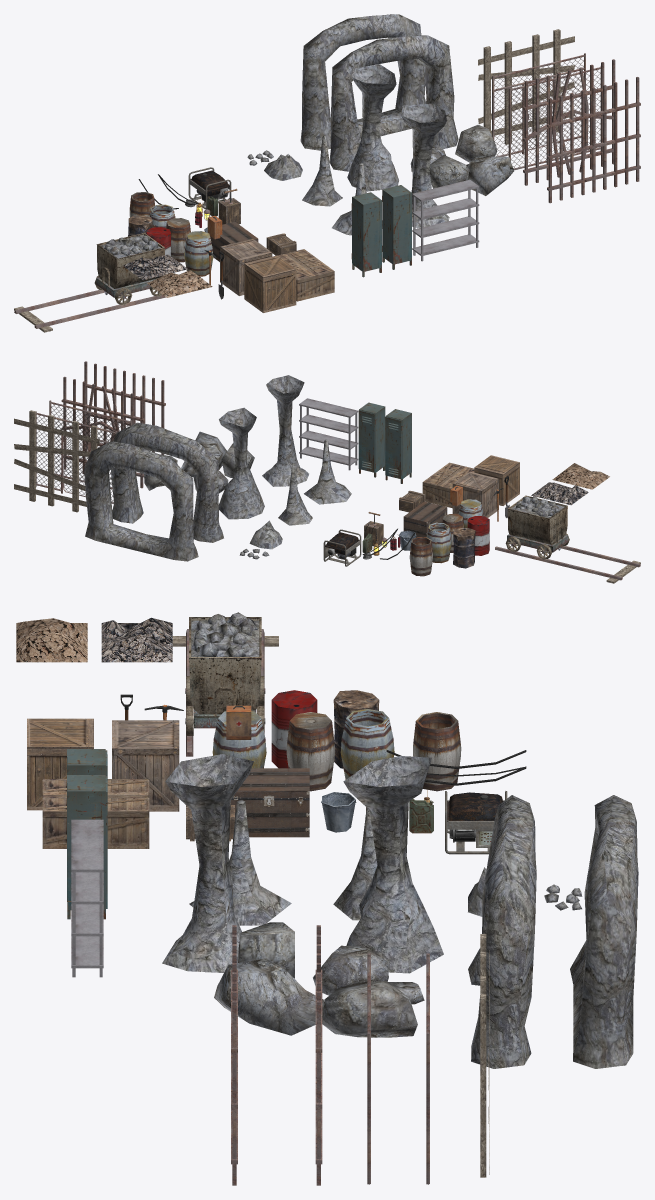
File: items_mines.glb
The picture shows the model from 3 angles, top to bottom: view 1: azimuth 30°, elevation 25°; view 2: azimuth 150°, elevation 25°; view 3: azimuth 270°, elevation 25°; orthographic projection. The views are drawn at different scales.
Visible parts, largest first — view 1: Rock_12, Rock_11, Fence, Rock_05, Fence_04, Fence_01, Shelving, Rock_06, Box_Wood_01, Wagon, Locker, Locker_01 (+23 smaller); view 2: Rock_12, Rock_11, Fence_04, Rock_05, Wagon, Rock_06, Shelving, Fence_01, Fence, Box_Wood, Box_Wood_01, Box_Wood_02 (+26 smaller); view 3: Rock_12, Rock_11, Rock_05, Rock_06, Wagon, Rock, Shelving, Box_Wood, Box_Wood_02, Box, Rock_02, Box_Wood_01 (+24 smaller).
Boxes of the visible parts, x1,y1,x2,y2 form: Rock_12: (300,14,425,150); Rock_11: (329,35,458,171); Fence: (547,77,640,203); Rock_05: (347,64,398,191); Fence_04: (478,29,574,144); Fence_01: (523,59,615,185); Shelving: (412,179,479,261); Rock_06: (401,103,449,228); Box_Wood_01: (244,255,296,312); Wagon: (94,232,164,305); Locker: (352,192,381,277); Locker_01: (382,185,411,269); Rock_12: (84,441,198,561); Rock_11: (111,422,223,542); Fence_04: (14,410,99,512); Rock_05: (218,407,264,519); Wagon: (505,495,569,559); Rock_06: (262,375,308,486); Shelving: (299,398,358,470); Fence_01: (61,376,144,488); Fence: (84,361,165,454); Box_Wood: (452,471,498,517); Box_Wood_01: (474,455,519,505); Box_Wood_02: (422,462,474,508); Rock_12: (570,795,638,1068); Rock_11: (468,795,536,1068); Rock_05: (343,756,443,973); Rock_06: (162,754,253,972); Wagon: (185,617,265,735); Rock: (214,958,323,1035); Shelving: (71,819,103,977); Box_Wood: (112,720,179,811); Box_Wood_02: (42,779,149,848); Box: (230,768,309,837); Rock_02: (322,980,417,1037); Box_Wood_01: (27,718,93,810).
Bounding box in the file's own units: 21.27 × 4.17 × 10.4.
31 materials, 31 textured.
